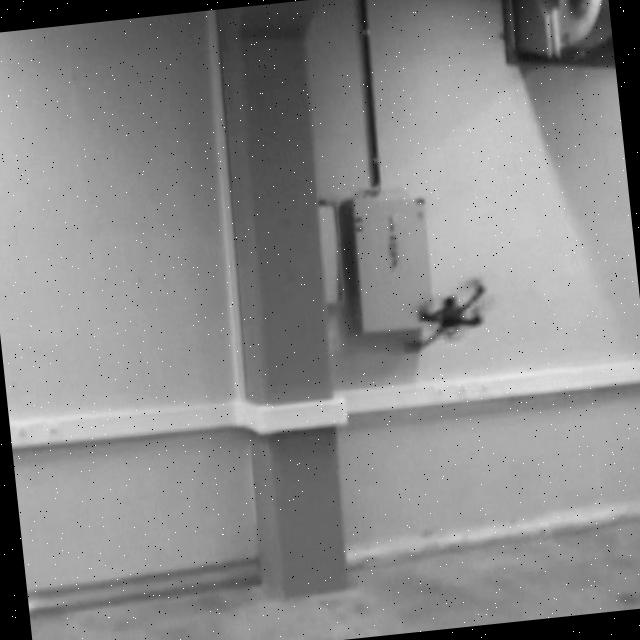drone: (395, 276, 491, 352)
